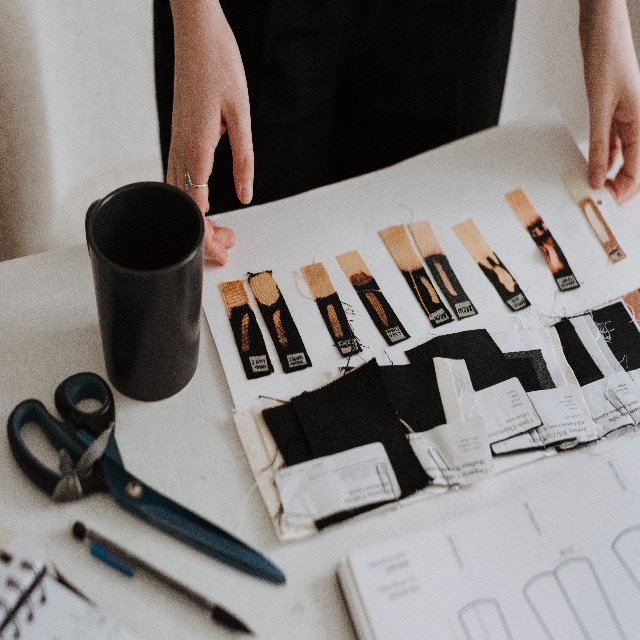Sin_guantes: (167, 0, 255, 263), (577, 0, 640, 205)
